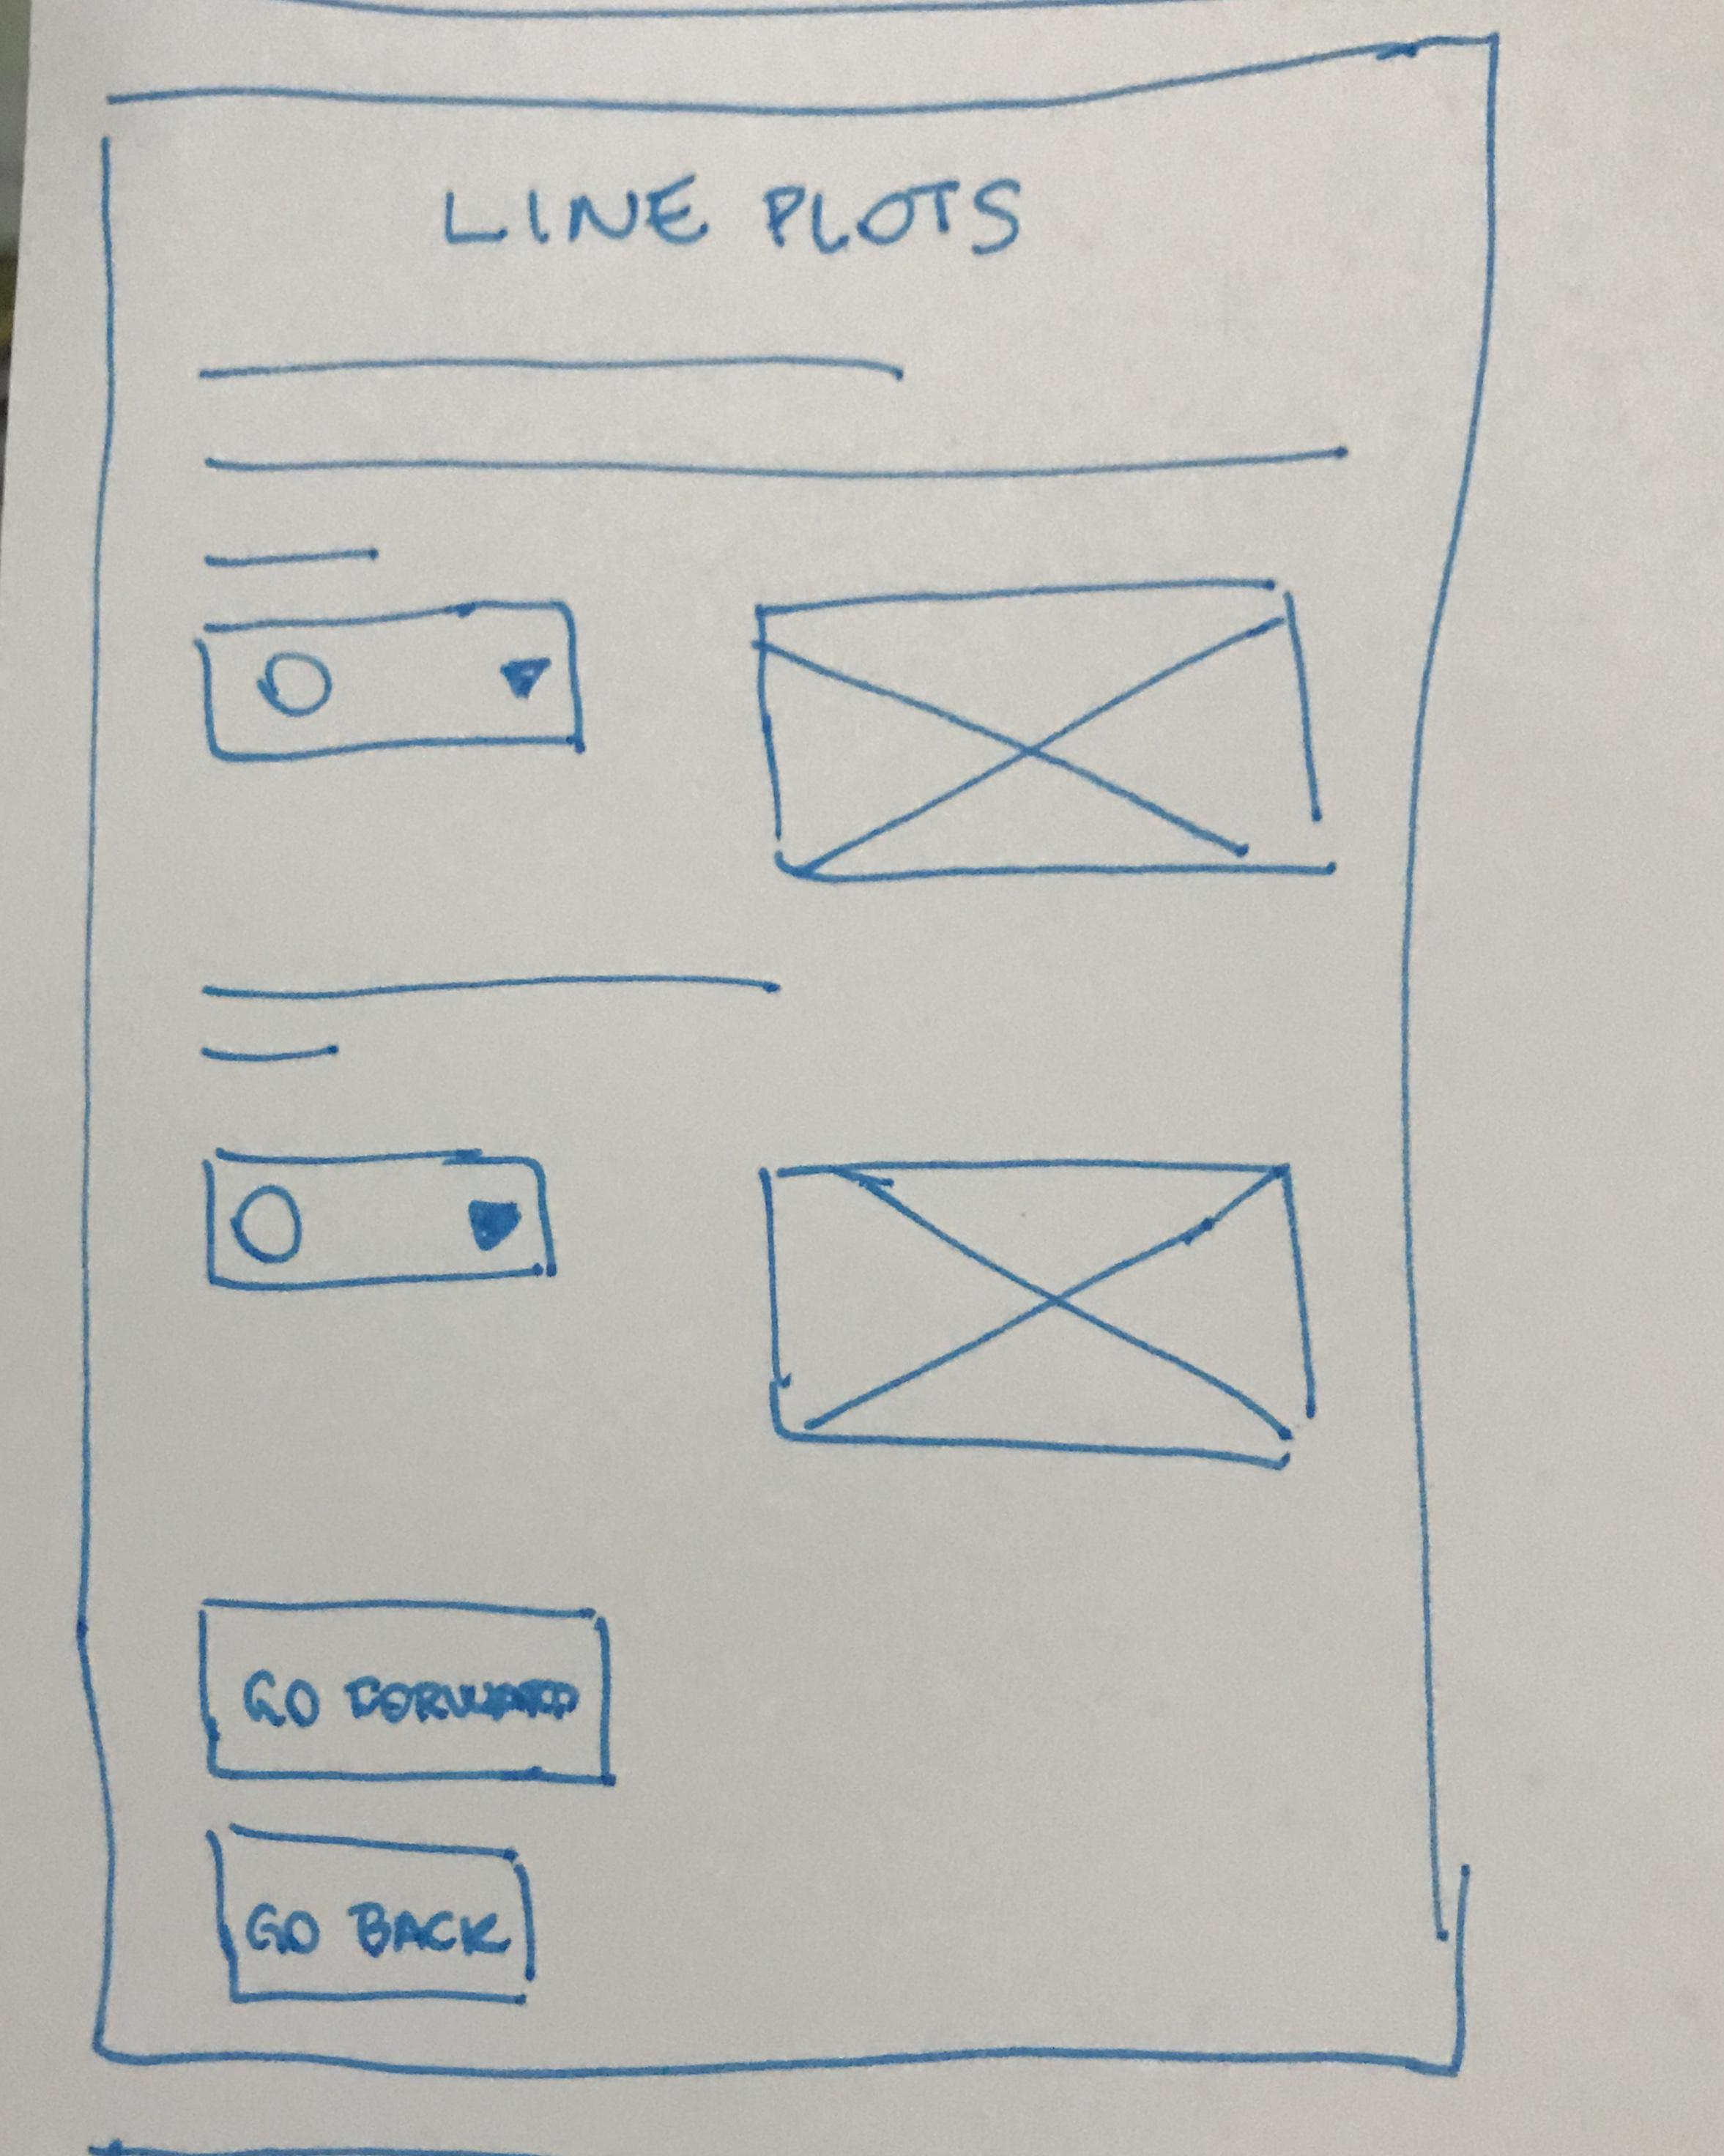Button: (197, 1597, 609, 1788), (208, 1822, 538, 2003)
Image: (756, 577, 1332, 883), (758, 1155, 1318, 1467)
Label: (199, 445, 1349, 568), (442, 165, 1019, 266), (202, 972, 785, 1066), (195, 352, 904, 390)
ListPicker: (195, 596, 586, 763), (201, 1147, 559, 1293)
Screen: (74, 33, 1499, 2075)
